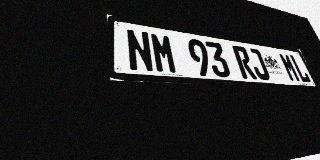3: (204, 41, 232, 78)
9: (186, 38, 214, 77)
J: (246, 47, 271, 80)
L: (289, 54, 312, 83)
M: (149, 32, 179, 74), (278, 53, 302, 82)
N: (125, 28, 155, 73)
R: (232, 45, 257, 79)
